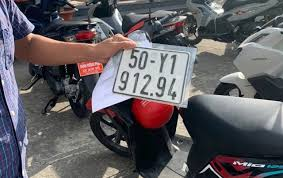Bien-so: (113, 47, 191, 104)
